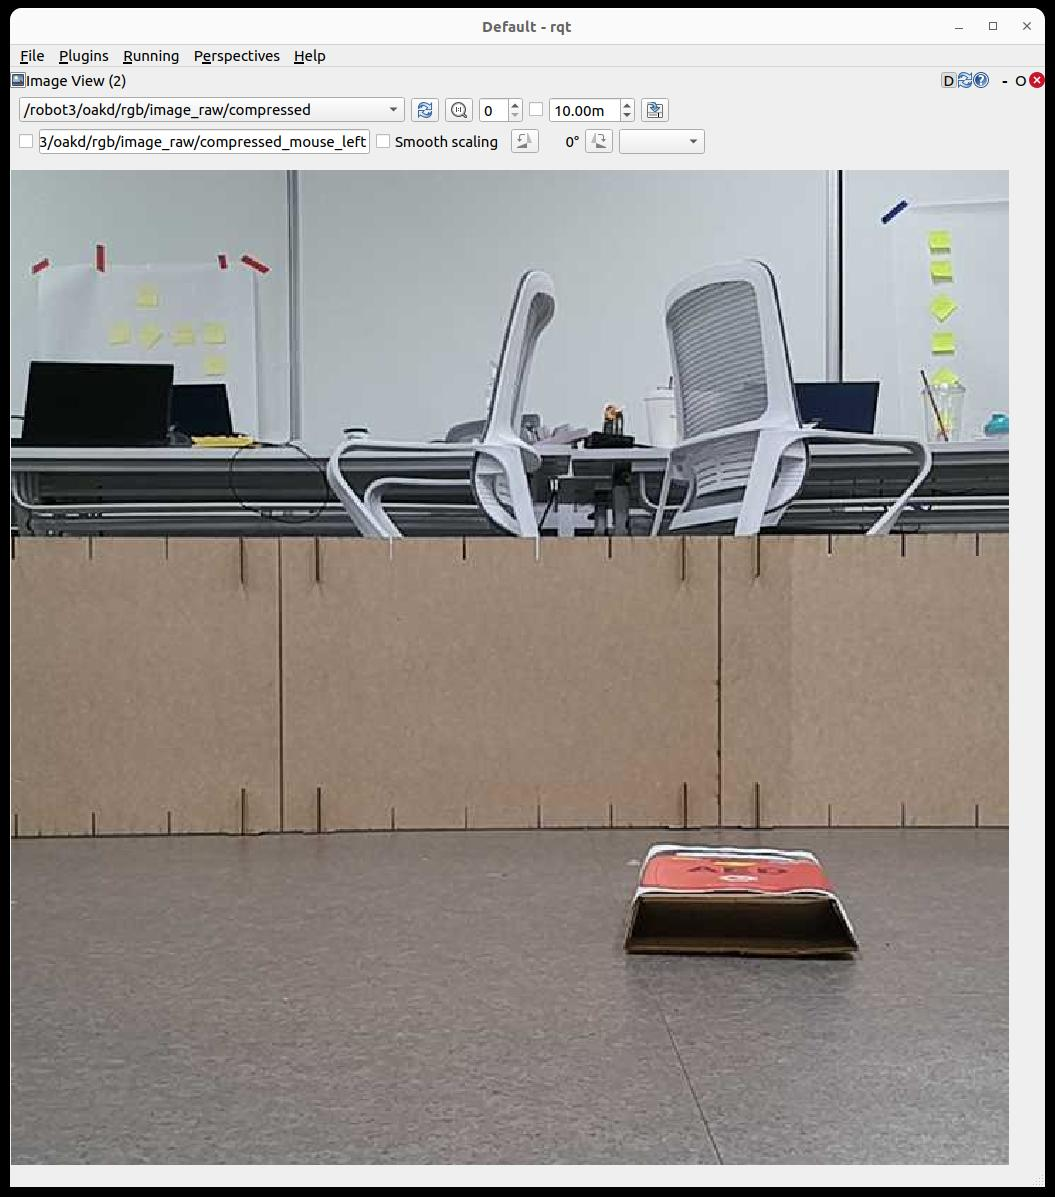AED: (640, 845, 833, 898)
